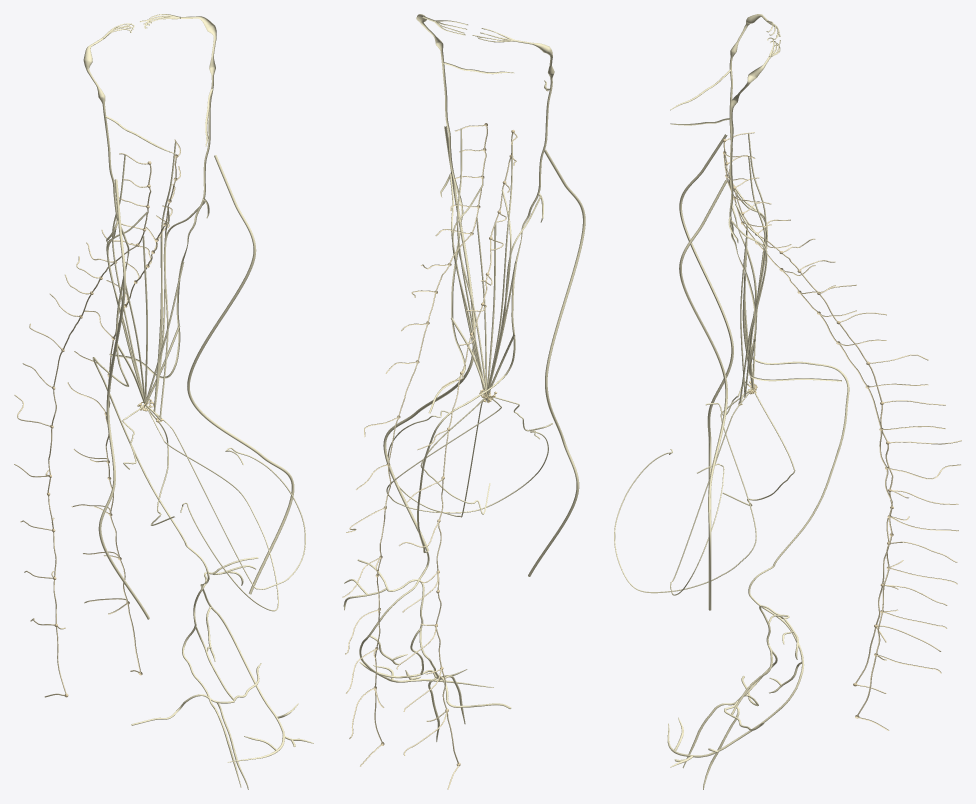
The model's file is nerves.glb.
3 views of the same model, side by side, from view 1: azimuth 30°, elevation 25°; view 2: azimuth 150°, elevation 25°; view 3: azimuth 270°, elevation 25° (orthographic). The views are drawn at different scales.
Parts seen in each view (by area): view 1: vagus_R, cardiac_nerves, cardiac_plexus_extensions, phrenic_L, vagus_L, phrenic_R, sympathetic_trunk_R, sympathetic_nerves_R, sympathetic_nerves_L, sympathetic_trunk_L; view 2: vagus_R, cardiac_nerves, cardiac_plexus_extensions, vagus_L, phrenic_R, phrenic_L, sympathetic_trunk_L, sympathetic_trunk_R, sympathetic_nerves_L, sympathetic_nerves_R; view 3: vagus_R, cardiac_nerves, cardiac_plexus_extensions, vagus_L, phrenic_L, sympathetic_nerves_L, sympathetic_nerves_R, sympathetic_trunk_L, phrenic_R, sympathetic_trunk_R.
Boxes of the visible parts, left/top/right/bottom form: vagus_R: left=83, top=23, right=313, bottom=789; cardiac_nerves: left=106, top=141, right=205, bottom=419; cardiac_plexus_extensions: left=122, top=404, right=305, bottom=611; phrenic_L: left=187, top=155, right=294, bottom=594; vagus_L: left=109, top=14, right=216, bottom=378; phrenic_R: left=98, top=179, right=149, bottom=619; sympathetic_trunk_R: left=44, top=153, right=151, bottom=697; sympathetic_nerves_R: left=14, top=179, right=147, bottom=629; sympathetic_nerves_L: left=67, top=166, right=180, bottom=614; sympathetic_trunk_L: left=105, top=139, right=180, bottom=674; vagus_R: left=343, top=28, right=554, bottom=741; cardiac_nerves: left=449, top=128, right=541, bottom=399; cardiac_plexus_extensions: left=386, top=395, right=552, bottom=517; vagus_L: left=416, top=14, right=513, bottom=413; phrenic_R: left=528, top=149, right=585, bottom=576; phrenic_L: left=383, top=126, right=475, bottom=551; sympathetic_trunk_L: left=360, top=124, right=487, bottom=766; sympathetic_trunk_R: left=436, top=132, right=517, bottom=789; sympathetic_nerves_L: left=342, top=149, right=484, bottom=738; sympathetic_nerves_R: left=396, top=157, right=516, bottom=755; vagus_R: left=667, top=14, right=849, bottom=789; cardiac_nerves: left=730, top=133, right=767, bottom=403; cardiac_plexus_extensions: left=614, top=381, right=795, bottom=595; vagus_L: left=670, top=37, right=841, bottom=381; phrenic_L: left=679, top=180, right=727, bottom=610; sympathetic_nerves_L: left=727, top=176, right=960, bottom=673; sympathetic_nerves_R: left=728, top=155, right=961, bottom=651; sympathetic_trunk_L: left=723, top=152, right=892, bottom=730; phrenic_R: left=679, top=134, right=733, bottom=520; sympathetic_trunk_R: left=723, top=132, right=893, bottom=693.
Bounding box in the file's own units: 1.31 × 4.7 × 2.05.
